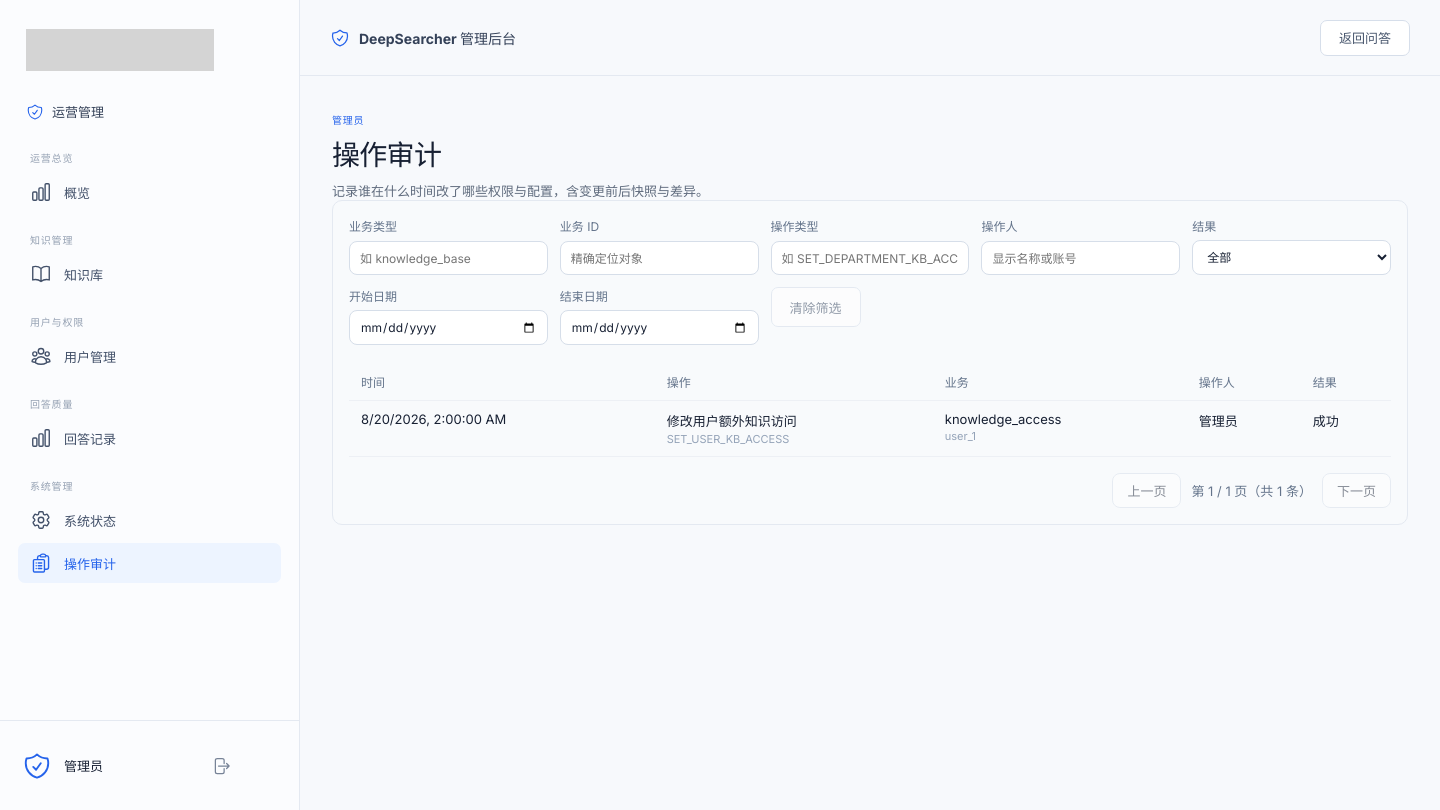
Scenario: 审计旧快照只回退到 ID，新权限快照展示名称
Expected: the heading "操作审计" is shown, [332,138,441,172]
Click the text "修改用户额外知识访问". click: {"x": 732, "y": 421}
box: [667,413,797,429]
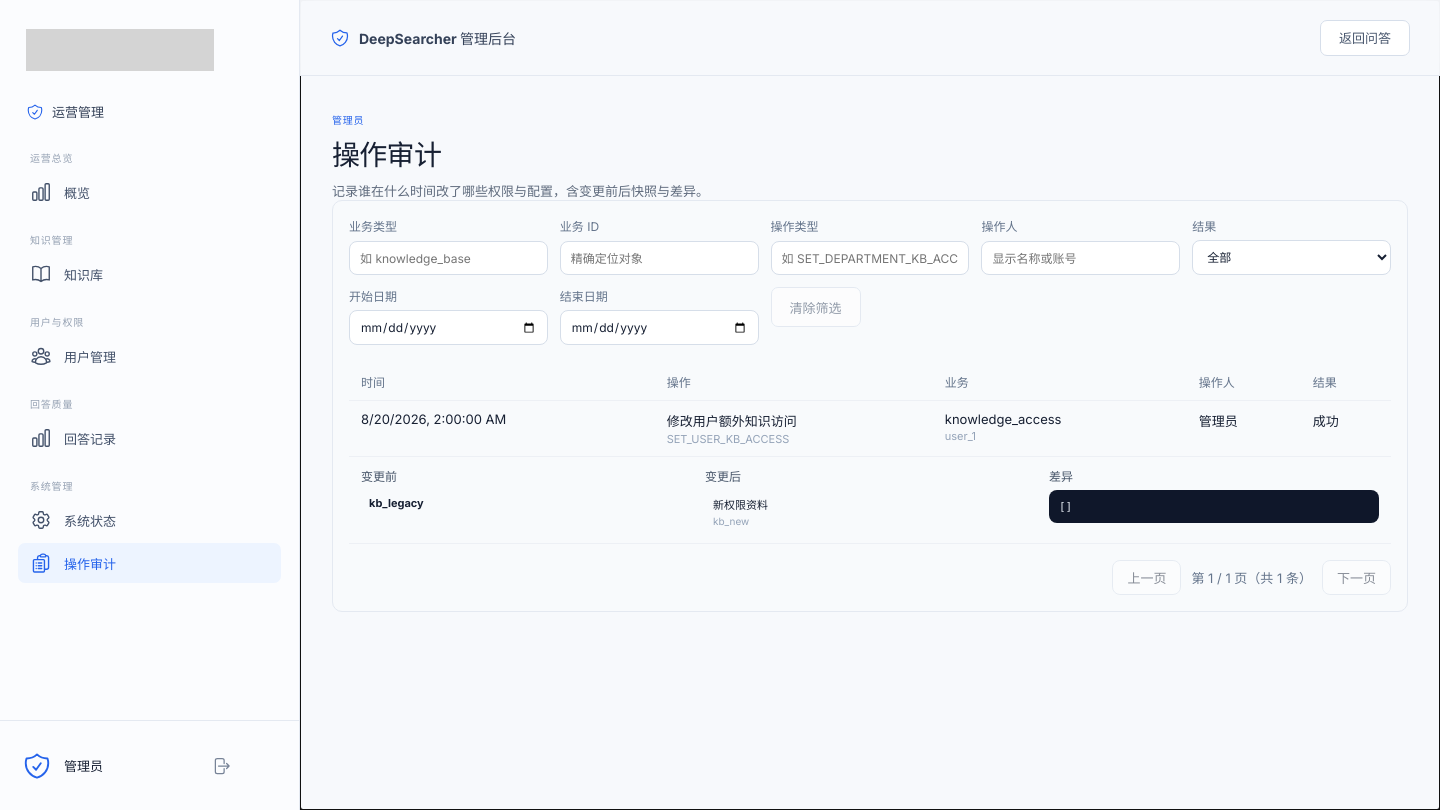
Expected: the text "kb_legacy" is shown, [369,496,424,510]
Expected: the text "新权限资料" is shown, [713,498,768,512]
